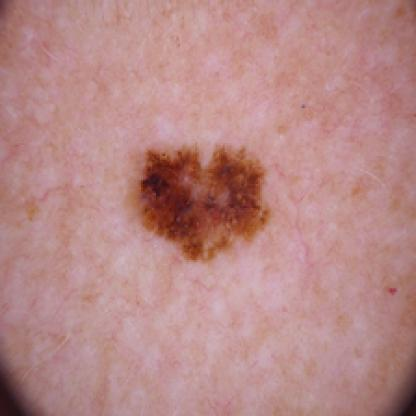Skin_Cancer-Malignant: (131, 144, 273, 263)
